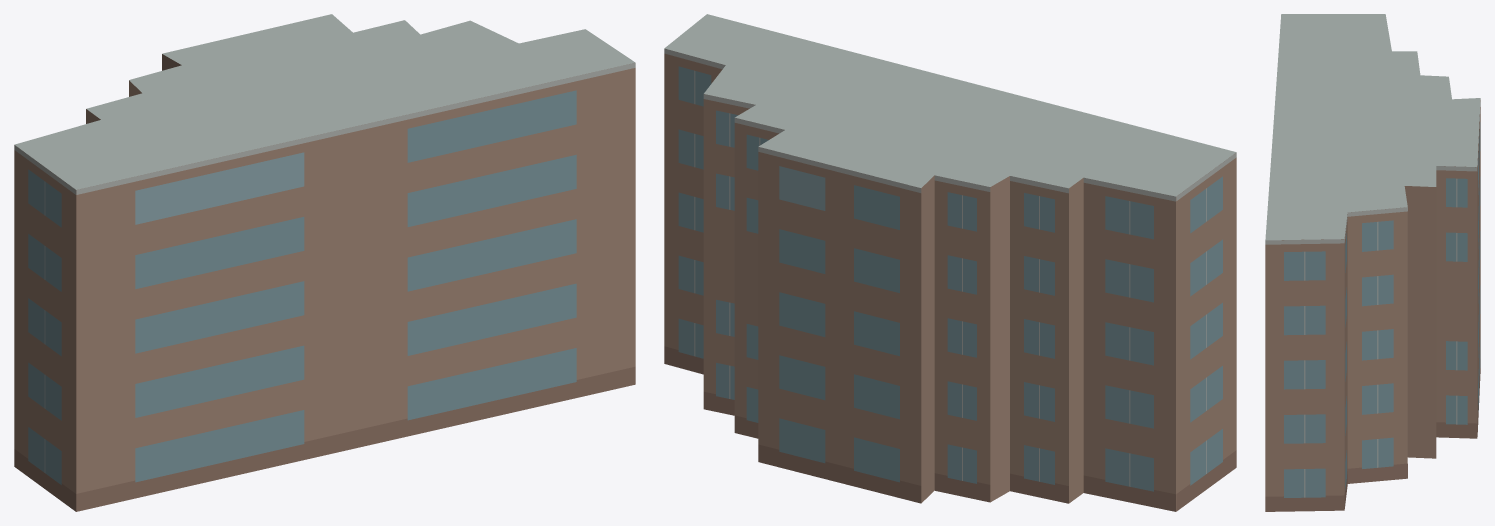
Rendered from survey-upis-32607070.glb.
3 renders of one model, left to right at view 1: azimuth 30°, elevation 25°; view 2: azimuth 150°, elevation 25°; view 3: azimuth 270°, elevation 25°, orthographic. The views are drawn at different scales.
Visible parts, largest first — view 1: survey-upis-32607070.tmp; view 2: survey-upis-32607070.tmp; view 3: survey-upis-32607070.tmp.
Boxes of the visible parts, x1,y1,x2,y2 form: survey-upis-32607070.tmp: (14, 14, 635, 511); survey-upis-32607070.tmp: (664, 14, 1236, 511); survey-upis-32607070.tmp: (1265, 14, 1480, 511).
Bounding box in the file's own units: 27.28 × 15.25 × 10.96.
